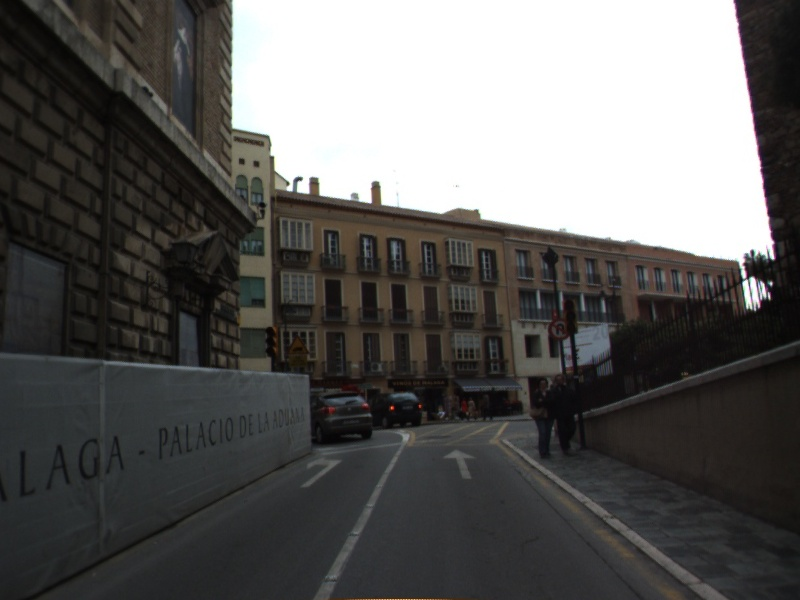LEFT: (298, 455, 345, 490)
STRAIGHT: (440, 447, 480, 481)
